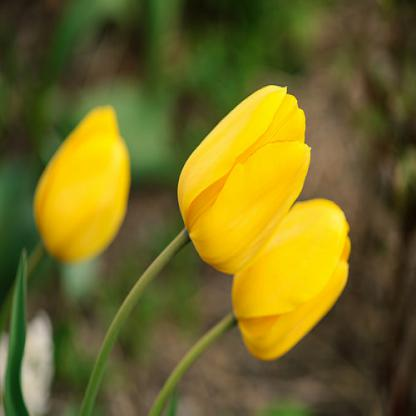TULIP: (39, 60, 364, 383)
